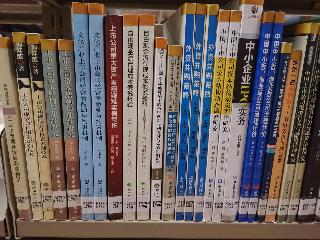book-spine: (245, 10, 287, 223), (276, 23, 320, 225), (221, 0, 260, 224), (235, 10, 276, 223), (210, 11, 244, 223), (285, 28, 320, 224), (254, 43, 291, 224), (200, 10, 231, 222), (266, 50, 301, 225), (12, 31, 44, 221), (24, 33, 55, 221), (70, 1, 96, 221), (0, 36, 31, 220), (193, 5, 219, 222), (183, 4, 208, 221), (40, 38, 69, 221), (174, 2, 196, 222), (57, 38, 81, 222), (159, 45, 184, 221), (87, 3, 107, 221), (135, 13, 155, 221), (105, 15, 124, 221), (122, 14, 139, 222), (150, 37, 168, 220)
